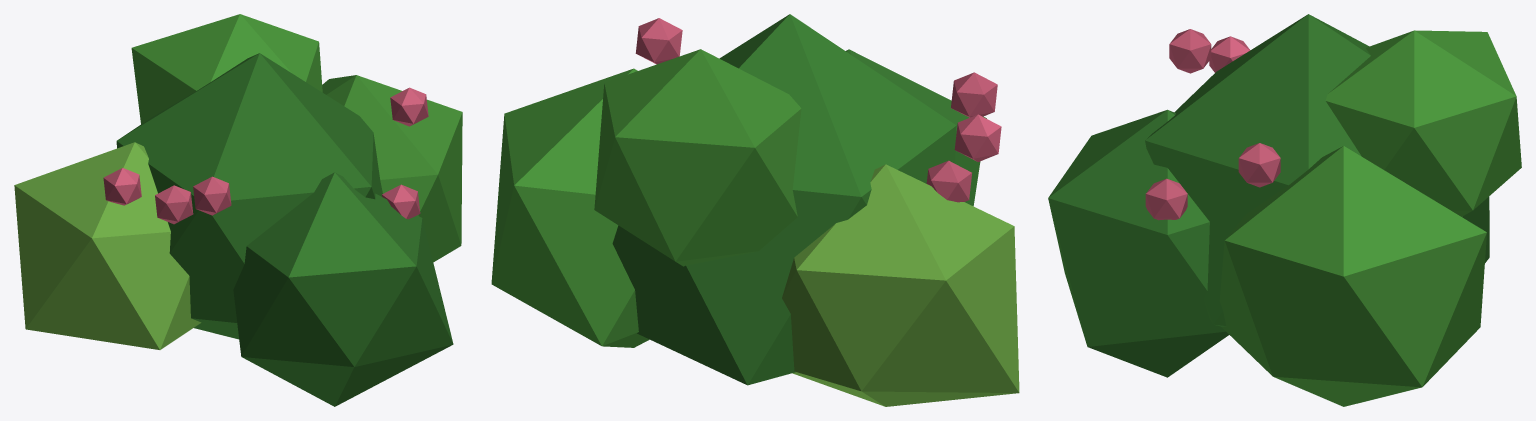
File: Shrub.glb
3 renders of one model, left to right at view 1: azimuth 30°, elevation 25°; view 2: azimuth 150°, elevation 25°; view 3: azimuth 270°, elevation 25°, orthographic. The views are drawn at different scales.
Parts seen in each view (by area): view 1: Shrub; view 2: Shrub; view 3: Shrub.
Part boxes in pixels (x1=…): Shrub: x1=14, y1=14, x2=462, y2=406; Shrub: x1=491, y1=14, x2=1019, y2=406; Shrub: x1=1048, y1=14, x2=1521, y2=406.
Bounding box in the file's own units: 1.61 × 1.12 × 1.34.
